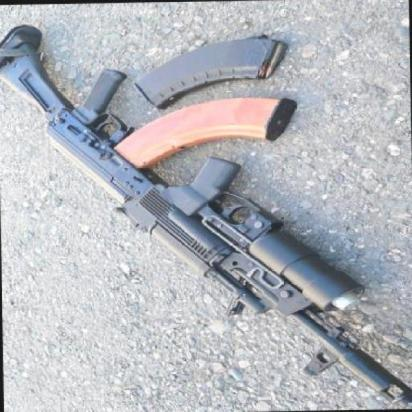Gun: (0, 22, 411, 412)
